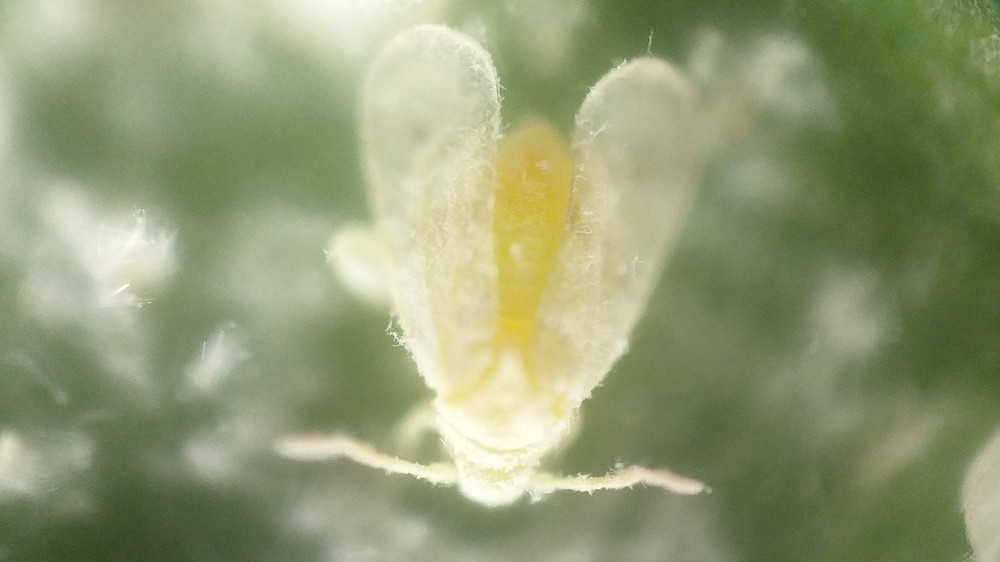Mosca Blanca: (276, 29, 734, 527)
